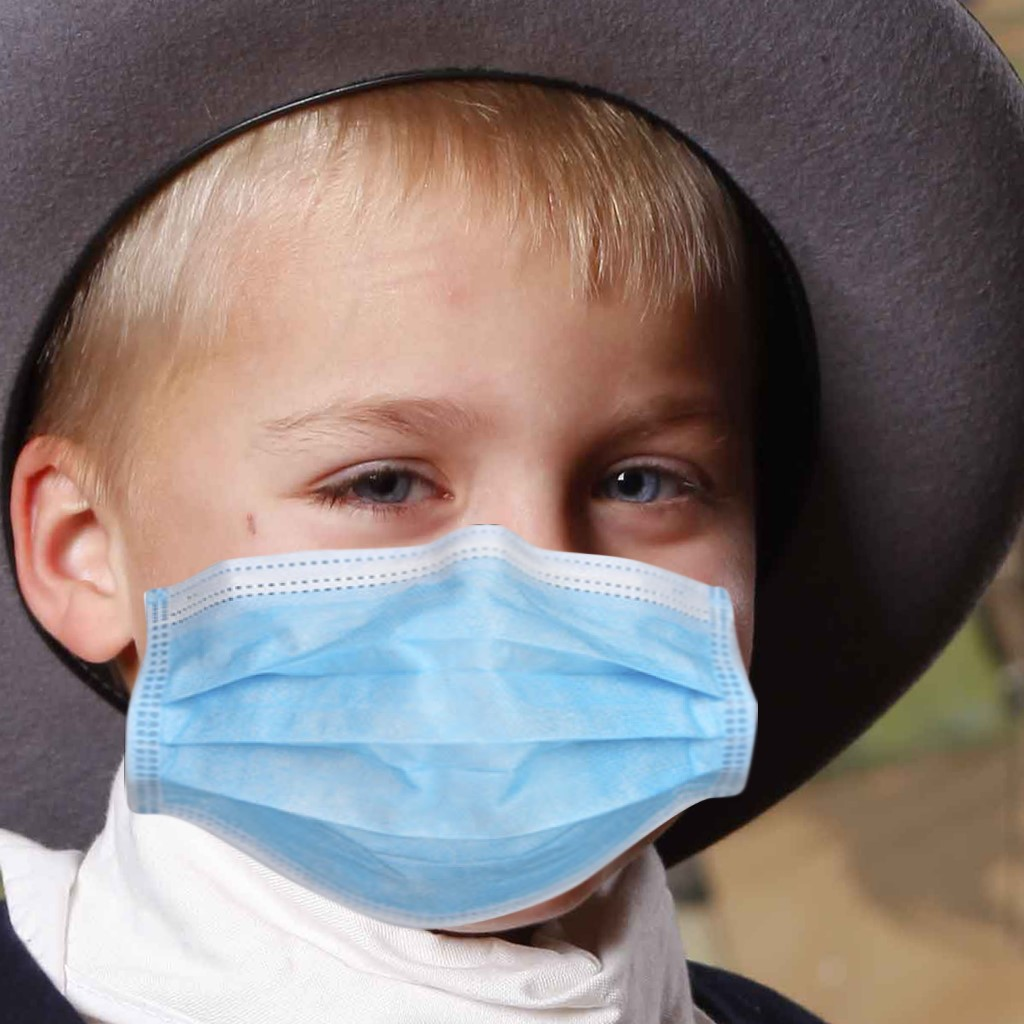con_mascara: (64, 107, 789, 939)
